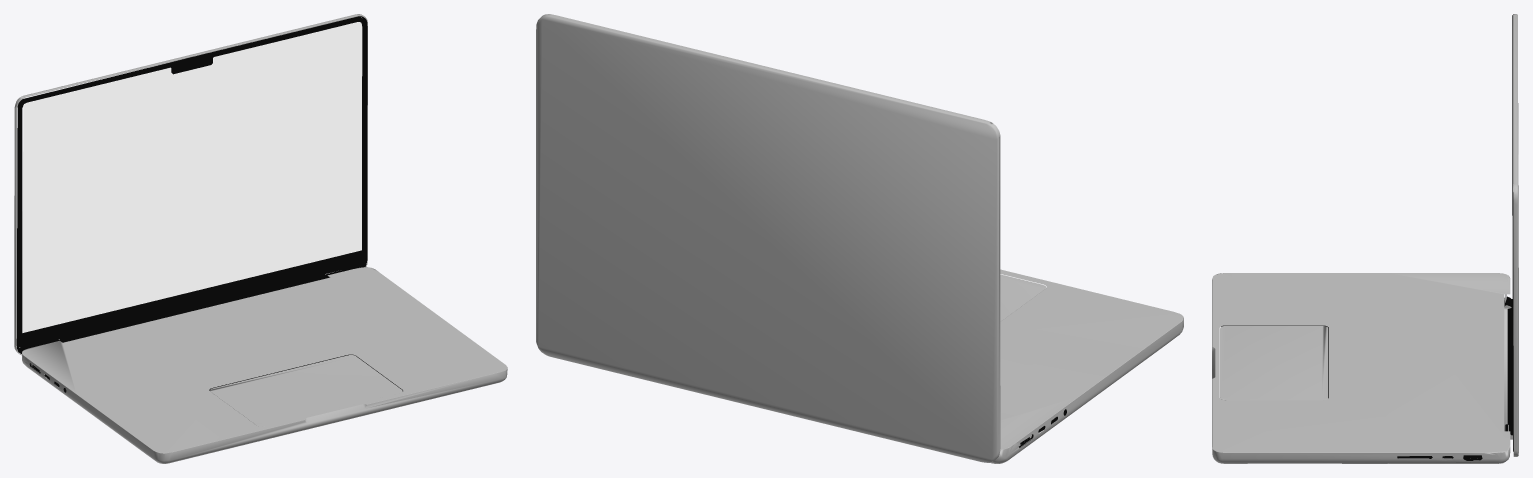
File: mac.glb
The picture shows the model from 3 angles, left to right: view 1: azimuth 30°, elevation 25°; view 2: azimuth 150°, elevation 25°; view 3: azimuth 270°, elevation 25°; orthographic projection. The views are drawn at different scales.
Visible parts, largest first — view 1: body; view 2: body; view 3: body.
Part boxes in pixels (bbox=[...]): body: bbox=[14, 14, 507, 463]; body: bbox=[536, 14, 1183, 463]; body: bbox=[1212, 14, 1518, 463].
Bounding box in the file's own units: 31.46 × 22.73 × 22.66.
2 materials, 1 textured.
